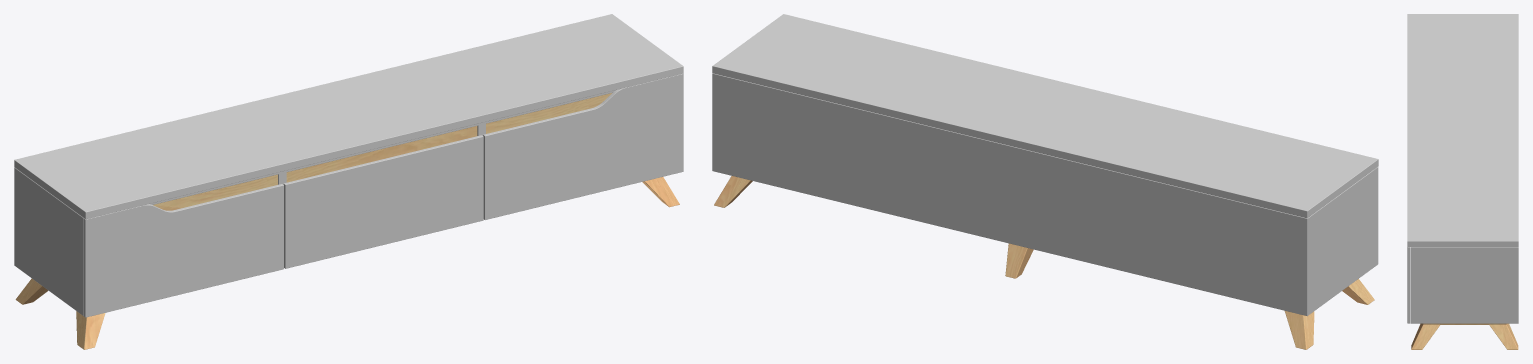
The model's file is tv-cabinet.glb.
The picture shows the model from 3 angles, left to right: view 1: azimuth 30°, elevation 25°; view 2: azimuth 150°, elevation 25°; view 3: azimuth 270°, elevation 25°; orthographic projection. The views are drawn at different scales.
Visible parts, largest first — view 1: TOP, PANEL3, PANEL1, PANEL2, CABINET, LEGBASE; view 2: CABINET, TOP, LEGBASE; view 3: TOP, CABINET, LEGBASE, PANEL3.
Boxes of the visible parts, x1,y1,x2,y2 form: TOP: (14,14,683,219); PANEL3: (483,73,683,219); PANEL1: (83,184,283,317); PANEL2: (283,135,483,268); CABINET: (14,90,615,315); LEGBASE: (15,177,679,349); CABINET: (712,73,1376,316); TOP: (712,14,1378,218); LEGBASE: (714,176,1374,349); TOP: (1407,14,1518,246); CABINET: (1411,247,1518,323); LEGBASE: (1411,323,1518,349); PANEL3: (1407,247,1410,323).
Size of the model in its own units: 9.97 by 2.23 by 2.07.
Materials: 3 (2 with a texture image).
